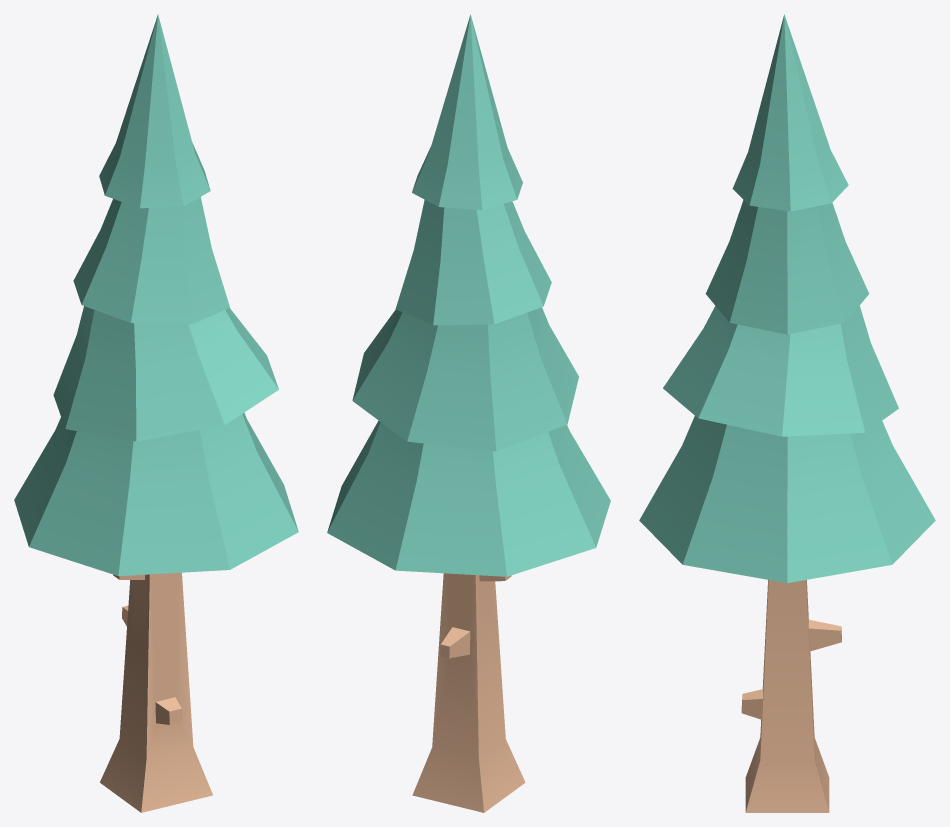
File: tree_high_crooked.glb
3 renders of one model, left to right at view 1: azimuth 30°, elevation 25°; view 2: azimuth 150°, elevation 25°; view 3: azimuth 270°, elevation 25°, orthographic.
Parts seen in each view (by area): view 1: treeHighCrooked; view 2: treeHighCrooked; view 3: treeHighCrooked.
Boxes of the visible parts, bbox=[...] form: treeHighCrooked: bbox=[14, 14, 298, 812]; treeHighCrooked: bbox=[327, 14, 610, 812]; treeHighCrooked: bbox=[639, 14, 935, 812].
Size of the model in its own units: 1.02 by 2.97 by 1.02.
